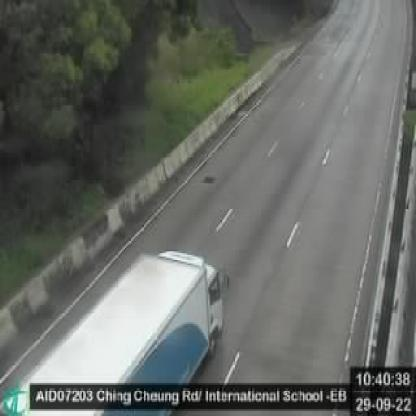Truck: (17, 244, 243, 414)
